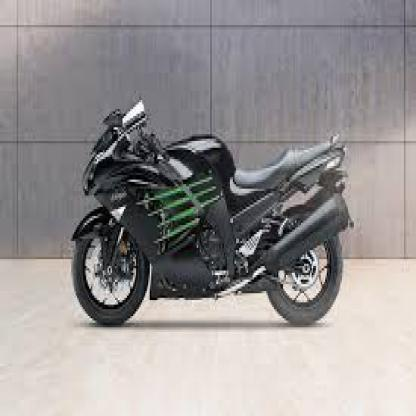Motorcycle: (68, 90, 356, 339)
